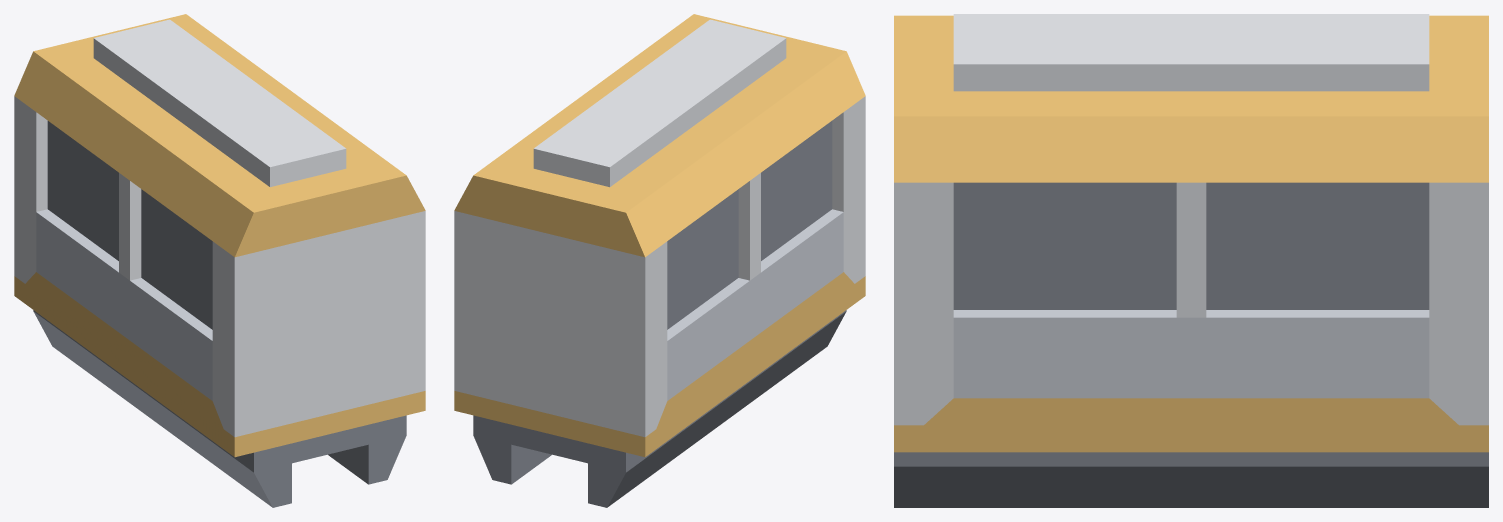
The model's file is monorail_trainPassenger.glb.
The picture shows the model from 3 angles, left to right: view 1: azimuth 30°, elevation 25°; view 2: azimuth 150°, elevation 25°; view 3: azimuth 270°, elevation 25°; orthographic projection. The views are drawn at different scales.
Parts seen in each view (by area): view 1: monorail_trainPassenger; view 2: monorail_trainPassenger; view 3: monorail_trainPassenger.
Part boxes in pixels (left/top/right/bottom): monorail_trainPassenger: left=14, top=14, right=425, bottom=507; monorail_trainPassenger: left=454, top=14, right=865, bottom=507; monorail_trainPassenger: left=894, top=14, right=1488, bottom=507.
Size of the model in its own units: 0.5 by 0.8 by 1.
